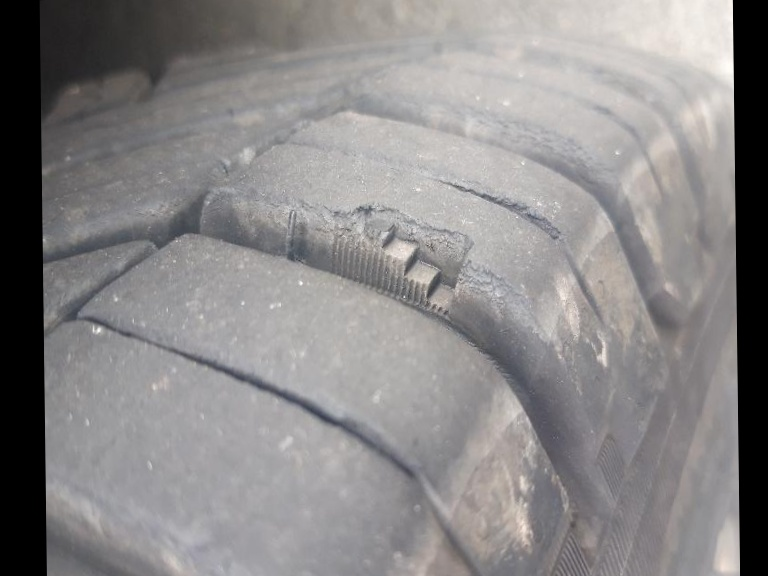temoin:80: (322, 185, 482, 337)
